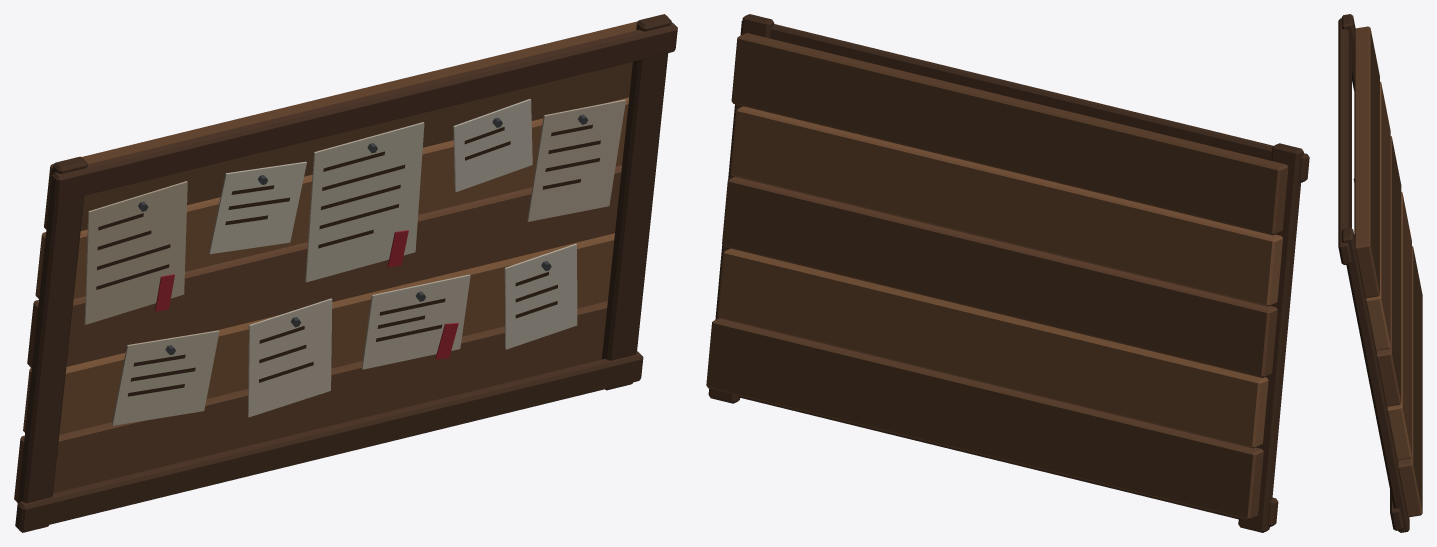
File: tl_furn_quest_board_v01.glb
The picture shows the model from 3 angles, left to right: view 1: azimuth 30°, elevation 25°; view 2: azimuth 150°, elevation 25°; view 3: azimuth 270°, elevation 25°; orthographic projection. The views are drawn at different scales.
Visible parts, largest first — view 1: tl_furn_quest_board_v01; view 2: tl_furn_quest_board_v01; view 3: tl_furn_quest_board_v01.
Boxes of the visible parts, box(x1,y1,x2,y2) form: tl_furn_quest_board_v01: box(14, 14, 677, 532); tl_furn_quest_board_v01: box(706, 14, 1309, 532); tl_furn_quest_board_v01: box(1338, 14, 1422, 532).
Bounding box in the file's own units: 2.28 × 1.38 × 0.3573.
